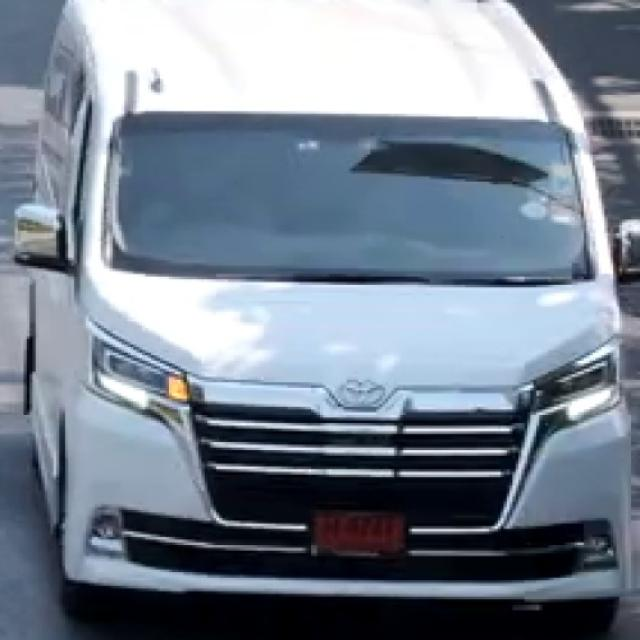plate: (306, 503, 413, 562)
